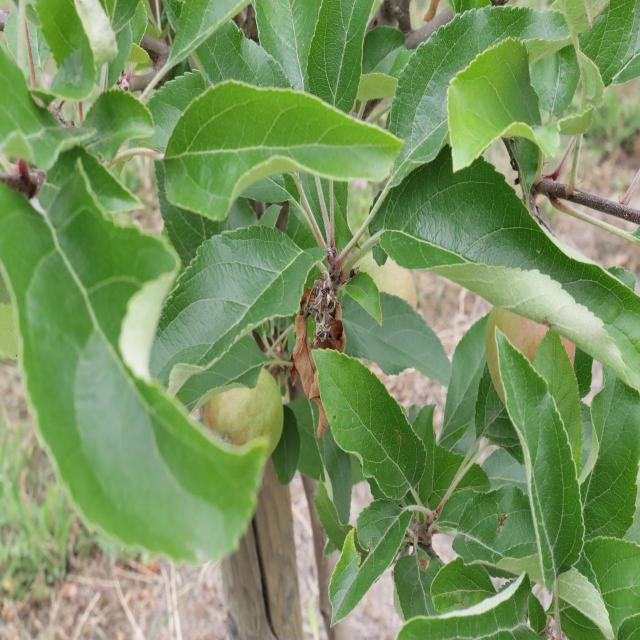-FireBlight-: (290, 290, 350, 376)
